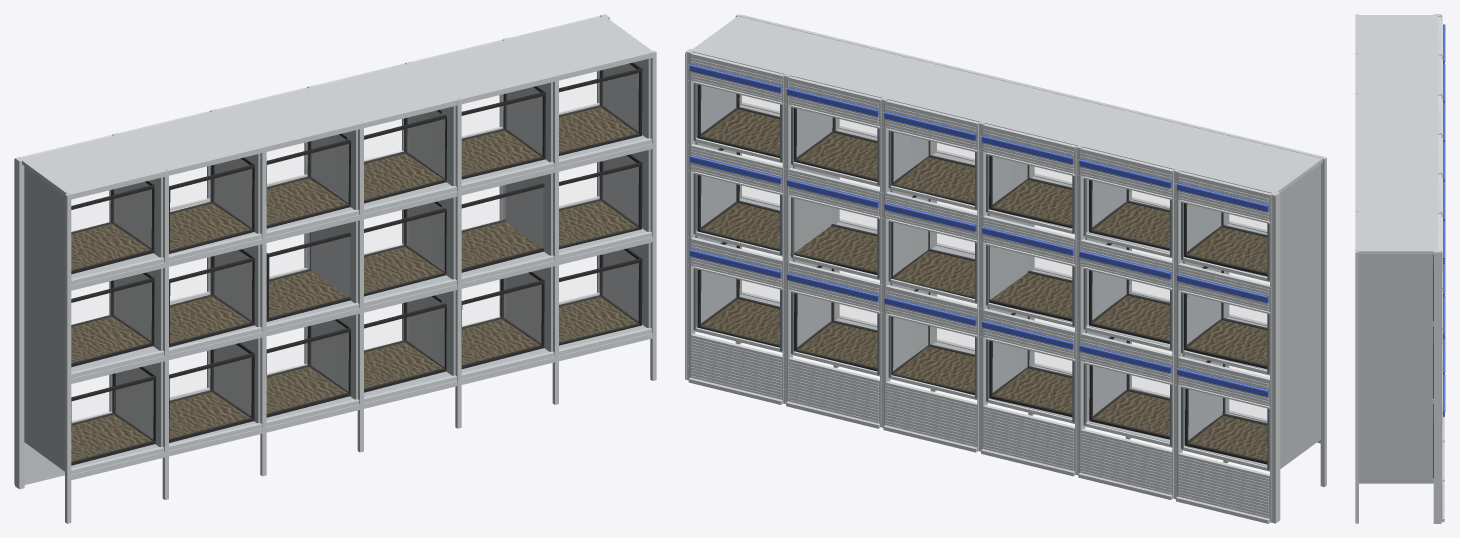
Rendered from akvaryum_rafi_turk.glb.
3 views of the same model, side by side, from view 1: azimuth 30°, elevation 25°; view 2: azimuth 150°, elevation 25°; view 3: azimuth 270°, elevation 25° (orthographic). The views are drawn at different scales.
Parts seen in each view (by area): view 1: prisma-m362, prisma-m299, prisma-m320, prisma-m278, prisma-m257, prisma-m341, prisma-m358, prisma-m337, prisma-m274, prisma-m295, prisma-m253, prisma-m316 (+43 smaller); view 2: prisma-m362, prisma-m363, prisma-m258, prisma-m330, prisma-m246, prisma-m279, prisma-m288, prisma-m321, prisma-m300, prisma-m342, prisma-m309, prisma-m351 (+73 smaller); view 3: prisma-m257, prisma-m253, prisma-m316, prisma-m337, prisma-m358, prisma-m274, prisma-m295, prisma-m239, prisma-m241, prisma-m249, prisma-m248, prisma-m258 (+16 smaller).
Boxes of the visible parts, <box> form: prisma-m362: <box>24,166,162,471</box>; prisma-m299: <box>408,106,455,375</box>; prisma-m320: <box>311,129,357,399</box>; prisma-m278: <box>506,82,552,351</box>; prisma-m257: <box>603,58,650,328</box>; prisma-m341: <box>214,153,260,423</box>; prisma-m358: <box>19,135,166,195</box>; prisma-m337: <box>117,111,263,171</box>; prisma-m274: <box>410,40,556,99</box>; prisma-m295: <box>312,63,458,123</box>; prisma-m253: <box>507,16,654,76</box>; prisma-m316: <box>215,87,361,147</box>; prisma-m362: <box>1182,164,1320,468</box>; prisma-m363: <box>1178,177,1268,517</box>; prisma-m258: <box>691,58,781,398</box>; prisma-m330: <box>1081,147,1173,494</box>; prisma-m246: <box>691,52,783,399</box>; prisma-m279: <box>788,82,878,422</box>; prisma-m288: <box>886,100,978,447</box>; prisma-m321: <box>983,129,1073,470</box>; prisma-m300: <box>886,105,976,446</box>; prisma-m342: <box>1081,153,1171,494</box>; prisma-m309: <box>983,123,1076,471</box>; prisma-m351: <box>1178,171,1271,518</box>; prisma-m257: <box>1359,254,1432,483</box>; prisma-m253: <box>1355,212,1437,254</box>; prisma-m316: <box>1355,93,1437,133</box>; prisma-m337: <box>1355,54,1437,93</box>; prisma-m358: <box>1355,15,1437,54</box>; prisma-m274: <box>1355,172,1437,211</box>; prisma-m295: <box>1355,133,1437,172</box>; prisma-m239: <box>1433,211,1441,523</box>; prisma-m241: <box>1355,251,1358,523</box>; prisma-m249: <box>1441,213,1442,522</box>; prisma-m248: <box>1441,212,1441,520</box>; prisma-m258: <box>1441,217,1442,517</box>.
Bounding box in the file's own units: 4.24 × 2.25 × 0.678.
14 materials, 1 textured.
